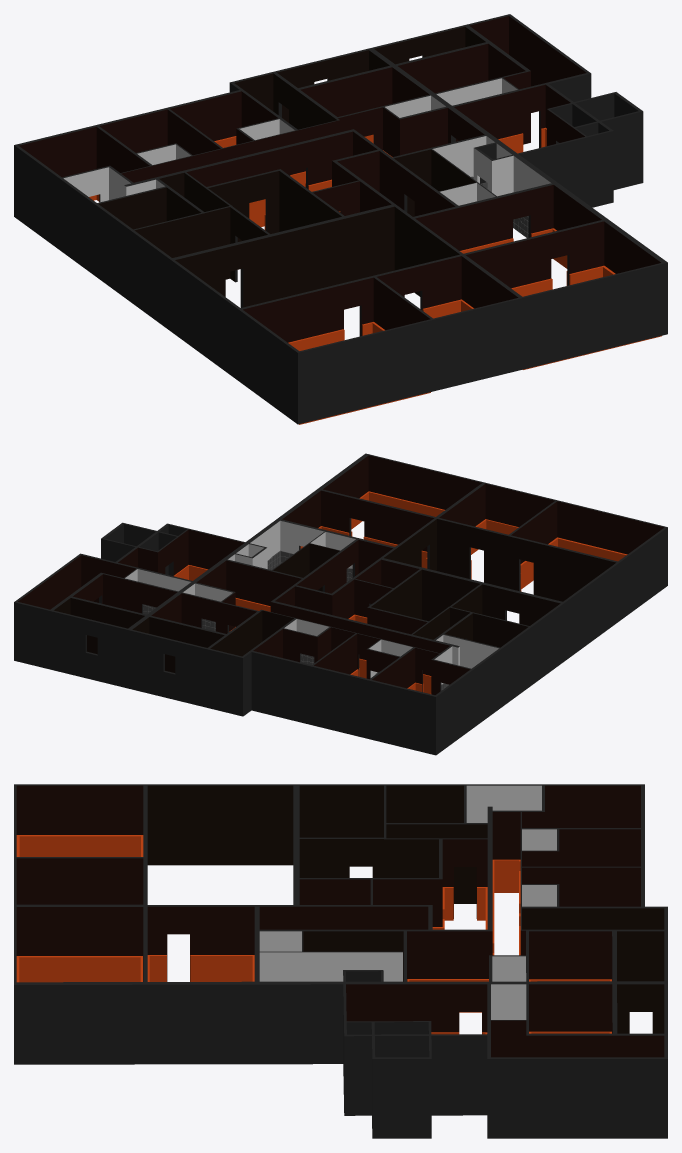
File: penthouse1.fbx
The picture shows the model from 3 angles, top to bottom: view 1: azimuth 30°, elevation 25°; view 2: azimuth 150°, elevation 25°; view 3: azimuth 270°, elevation 25°; orthographic projection. The views are drawn at different scales.
Parts seen in each view (by area): view 1: main_house (×4), panel.009, panel.011; view 2: main_house (×4), panel.011, panel.009, panel.004; view 3: main_house (×4), panel.009, panel.011, panel.007, panel.004, panel.002.
Part boxes in pixels (<box>): main_house (×4): <box>14,14,667,424</box>; panel.009: <box>511,265,661,369</box>; panel.011: <box>288,322,430,424</box>; main_house (×4): <box>14,453,667,755</box>; panel.011: <box>520,537,627,591</box>; panel.009: <box>351,491,444,536</box>; panel.004: <box>229,598,431,693</box>; main_house (×4): <box>14,784,667,1138</box>; panel.009: <box>16,956,142,982</box>; panel.011: <box>16,835,143,856</box>; panel.007: <box>147,955,254,981</box>; panel.004: <box>407,859,520,1012</box>; panel.002: <box>432,887,487,929</box>.
Bounding box in the file's own units: 10756 × 1493 × 10817.
